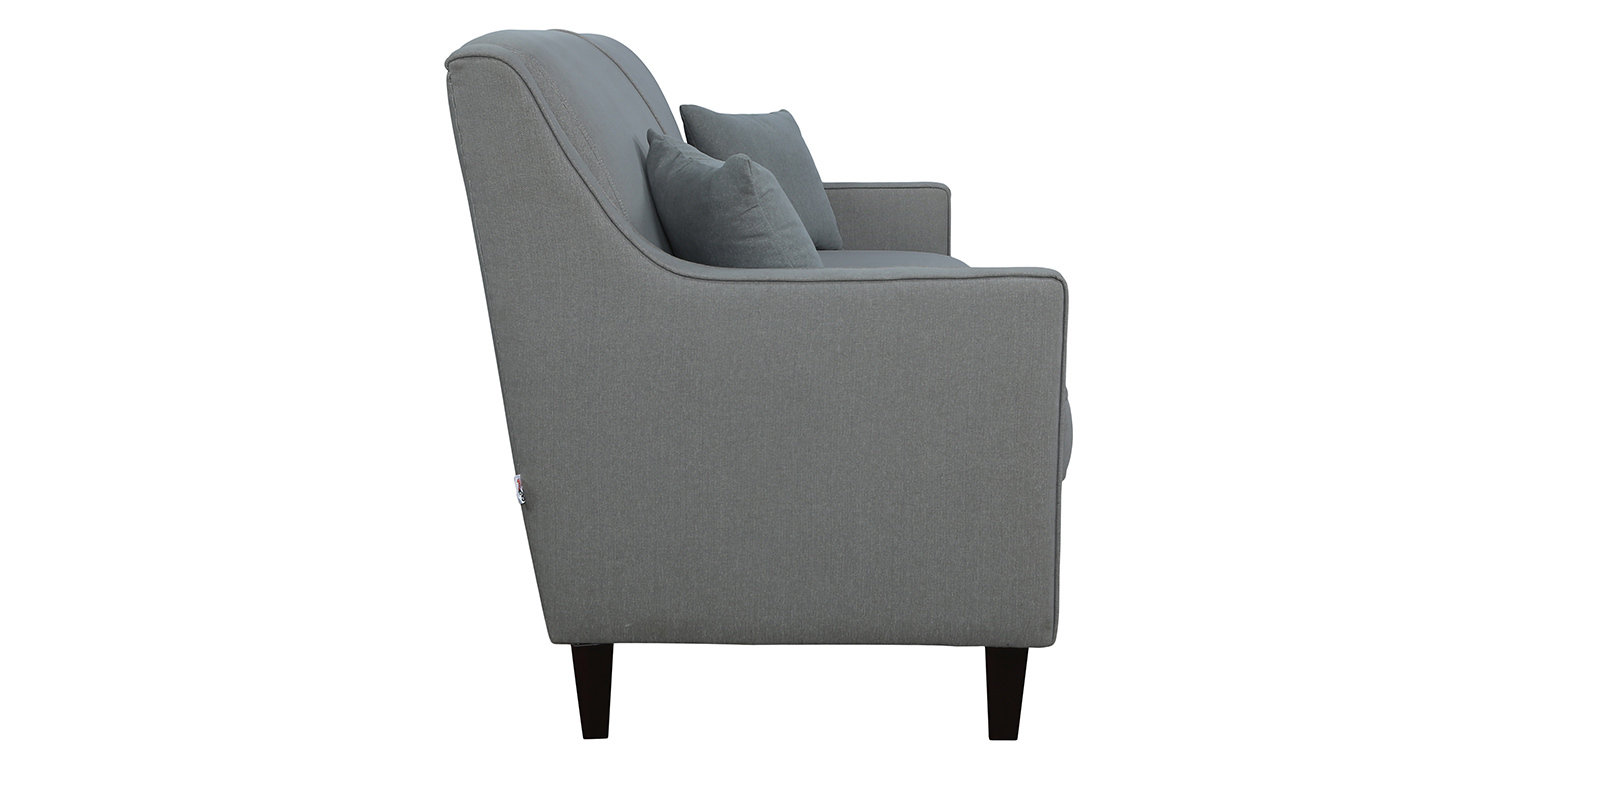Oscar Three Seater Sofa in Ash Grey Colour by CasaCraft: (444, 23, 1076, 742)
